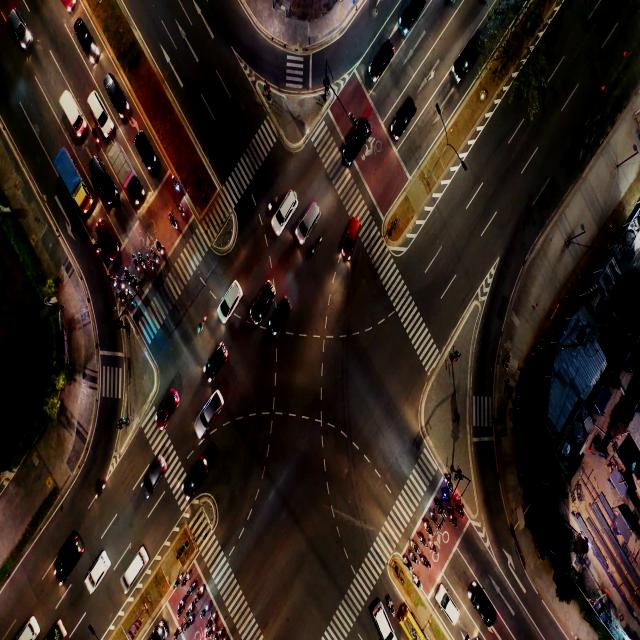bus: (406, 622, 418, 632)
car: (371, 44, 390, 72), (396, 99, 412, 126), (90, 556, 106, 582), (302, 204, 316, 232), (462, 38, 477, 63), (352, 122, 367, 146), (344, 223, 359, 245), (64, 543, 77, 568), (275, 300, 287, 325), (192, 463, 203, 488), (130, 560, 142, 582), (477, 591, 489, 613), (405, 5, 416, 26), (93, 166, 103, 188), (102, 232, 114, 250), (152, 460, 162, 481), (228, 284, 238, 304), (257, 292, 269, 308), (208, 398, 220, 414), (140, 136, 150, 153), (163, 393, 171, 414), (213, 350, 222, 368), (445, 598, 452, 618), (284, 193, 292, 210), (96, 101, 102, 121), (112, 85, 119, 101), (81, 30, 88, 42), (379, 616, 385, 628)
motorcycle: (98, 481, 106, 497), (428, 541, 438, 553), (425, 520, 431, 534), (449, 514, 456, 525), (125, 290, 131, 302), (217, 628, 225, 637), (172, 217, 177, 231), (177, 570, 182, 584), (199, 318, 204, 331), (311, 244, 318, 253), (174, 181, 180, 191), (455, 505, 462, 513), (136, 262, 141, 273), (134, 280, 139, 291), (111, 278, 116, 289), (120, 282, 125, 292), (412, 537, 416, 549), (438, 503, 443, 512), (390, 605, 395, 614), (181, 208, 186, 217), (416, 575, 420, 586), (447, 480, 452, 488), (422, 556, 427, 564), (267, 201, 271, 211), (160, 246, 164, 256), (150, 262, 154, 272), (179, 598, 183, 608), (444, 492, 448, 501), (410, 554, 416, 560), (128, 274, 131, 286), (120, 295, 124, 304), (420, 536, 425, 543), (142, 260, 146, 268), (189, 615, 193, 623), (155, 256, 158, 266), (200, 585, 203, 595), (432, 513, 436, 520), (188, 603, 192, 610), (205, 604, 209, 611), (406, 559, 410, 565), (186, 572, 189, 580), (212, 612, 216, 618), (177, 627, 180, 634), (94, 130, 96, 140), (192, 582, 195, 588), (212, 626, 214, 632)
truck: (63, 164, 75, 190), (68, 98, 76, 123), (120, 150, 126, 179)
